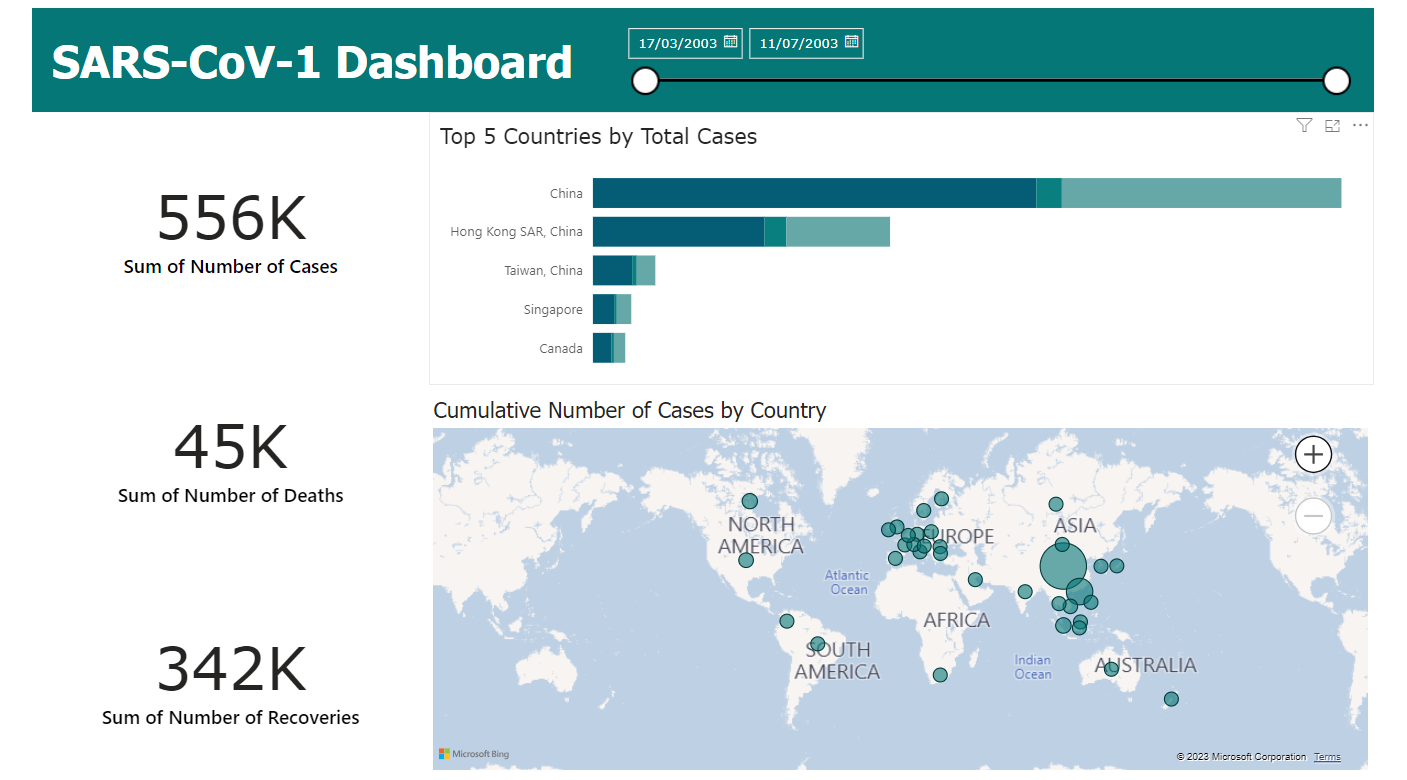

The page's visual inventory and layout, read from the dashboard file:
{"tool":"powerbi","page":{"name":"Page 1","canvas":[1280,720],"ordinal":0},"visuals":[{"type":"shape","box":[30,7,1220,95],"z":0},{"type":"card","fields":{"Values":["Sum(sars_2003_dataset.Cumulative number of case(s))"]},"box":[30,102,361,208],"z":1000},{"type":"map","title":"Cumulative Number of Cases by Country","fields":{"Category":["sars_2003_dataset.Country"],"Size":["Sum(sars_2003_dataset.Cumulative number of case(s))"]},"box":[390,360,860,345],"z":2000},{"type":"slicer","fields":{"Values":["sars_2003_dataset.Date"]},"box":[559,15,678,79],"z":3000},{"type":"card","fields":{"Values":["Sum(sars_2003_dataset.Number of deaths)"]},"box":[30,310,361,208],"z":4000},{"type":"card","fields":{"Values":["Sum(sars_2003_dataset.Number recovered)"]},"box":[30,512,361,208],"z":5000},{"type":"barChart","title":"Top 5 Countries by Total Cases","fields":{"Category":["sars_2003_dataset.Country"],"Y":["Sum(sars_2003_dataset.Cumulative number of case(s))","Sum(sars_2003_dataset.Number of deaths)","Sum(sars_2003_dataset.Number recovered)"]},"box":[391,102,859,248],"z":6000}]}

Visuals, with their boxes in screenshot pixels (x1, y1, x2, y2), scaled from the page's 1280x720 canvas onto the 1407x780 screenshot:
shape: (left=33, top=8, right=1374, bottom=110)
card - Sum(sars_2003_dataset.Cumulative number of case(s)): (left=33, top=110, right=430, bottom=336)
"Cumulative Number of Cases by Country" map: (left=429, top=390, right=1374, bottom=764)
slicer - sars_2003_dataset.Date: (left=614, top=16, right=1360, bottom=102)
card - Sum(sars_2003_dataset.Number of deaths): (left=33, top=336, right=430, bottom=561)
card - Sum(sars_2003_dataset.Number recovered): (left=33, top=555, right=430, bottom=779)
"Top 5 Countries by Total Cases" barChart: (left=430, top=110, right=1374, bottom=379)
